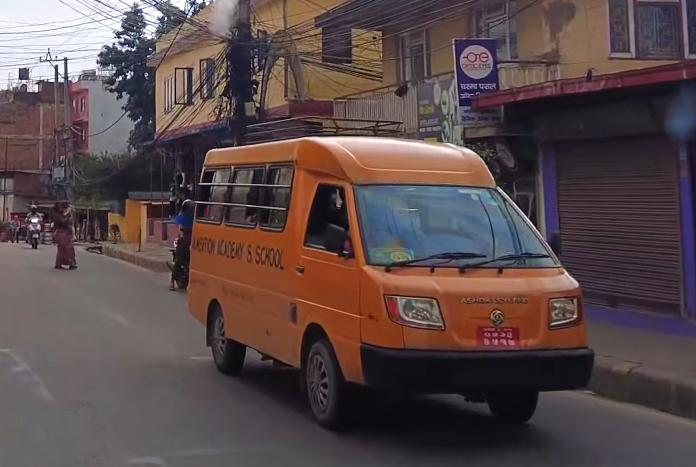school_bus: (184, 128, 594, 437)
scooter: (24, 211, 43, 250)
